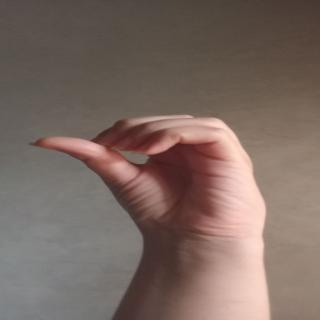WAW: (9, 108, 294, 250)
